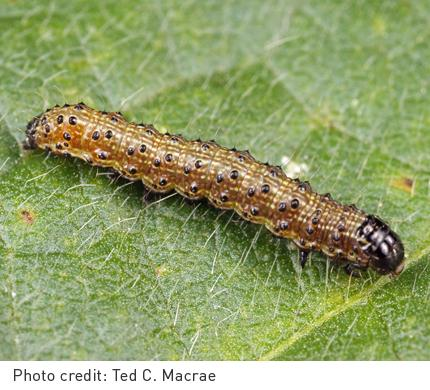Armyworm: (22, 100, 412, 284)
